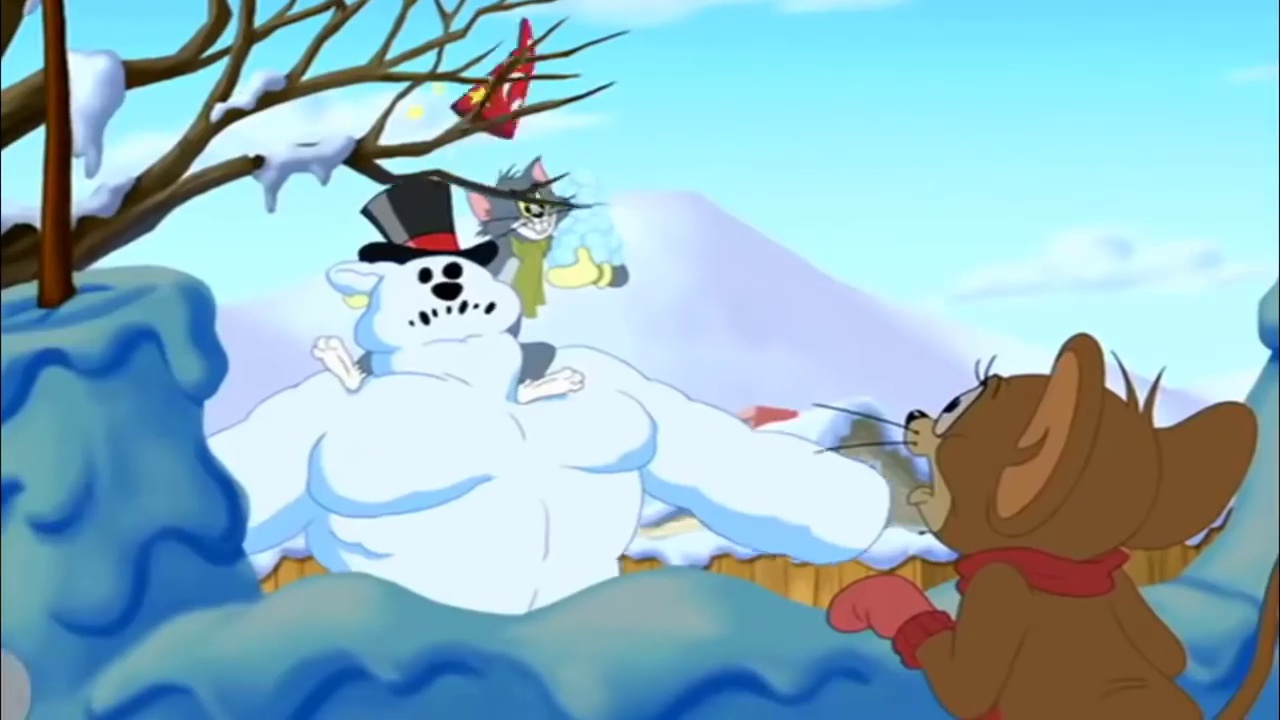face: (901, 370, 996, 541), (505, 185, 562, 244)
